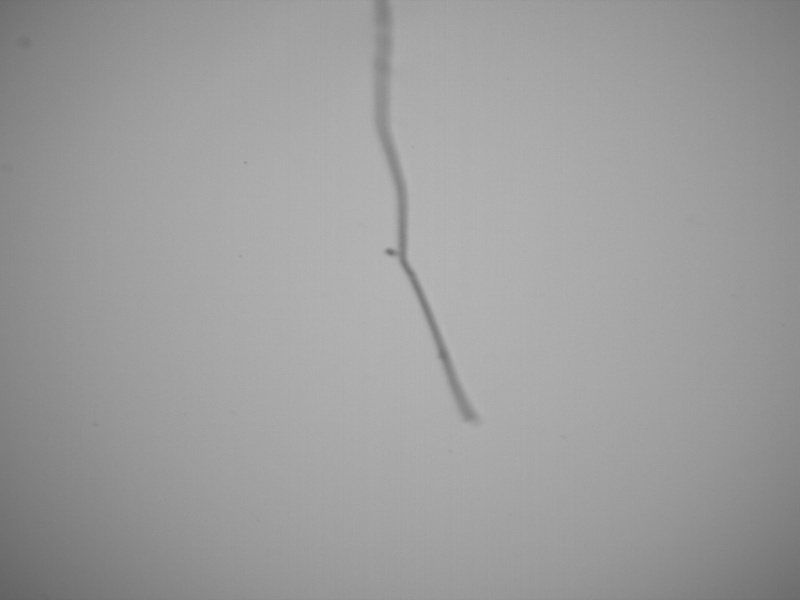fiber: (362, 1, 487, 428)
